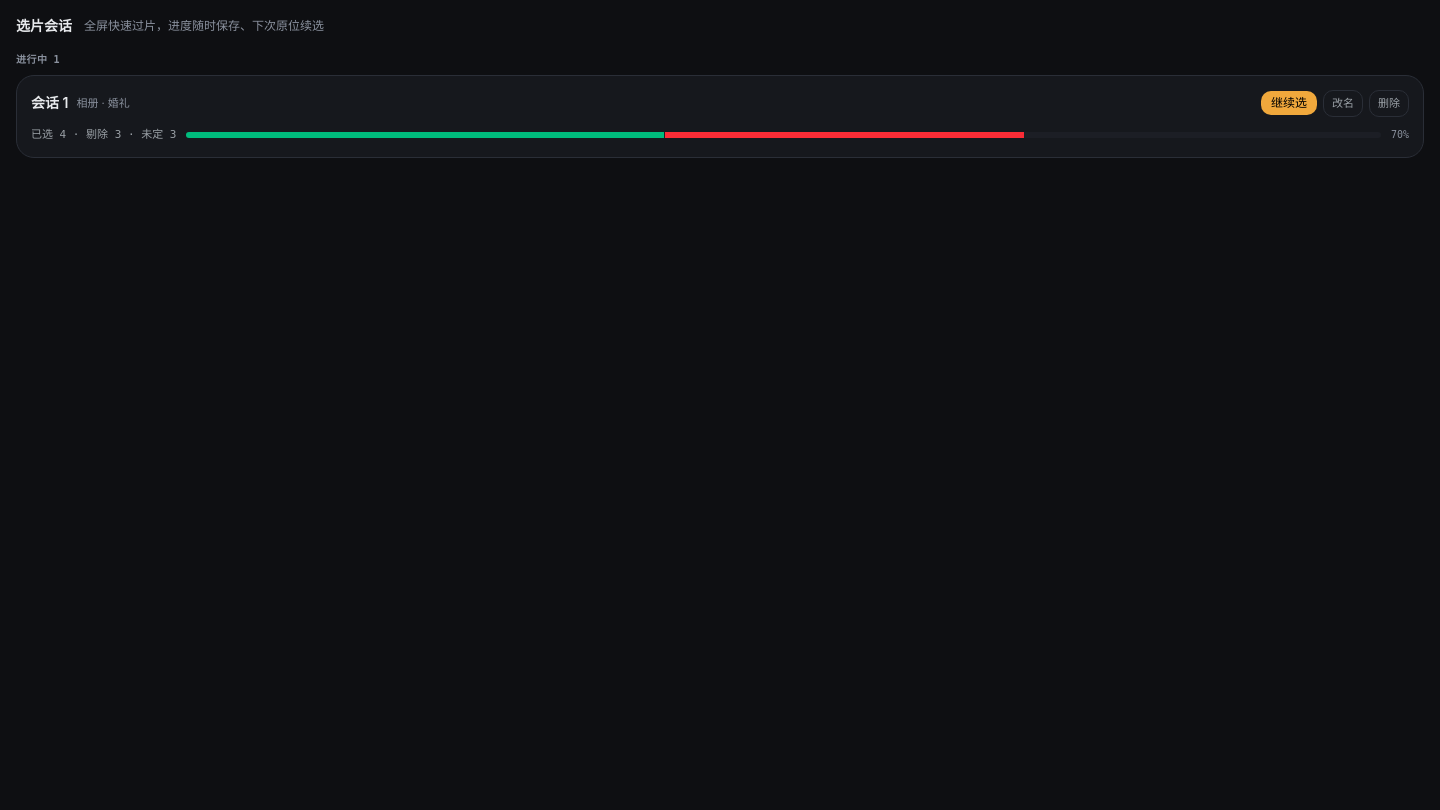
选片会话页（CullingPage /culling） › 继续选 → 挂载全屏选片层；Esc 关闭回列表并刷新
This screenshot has width=1440, height=810.
Click the button with test id "culling-session-continue" at {"x": 1289, "y": 103}, box [1261,91,1317,115]
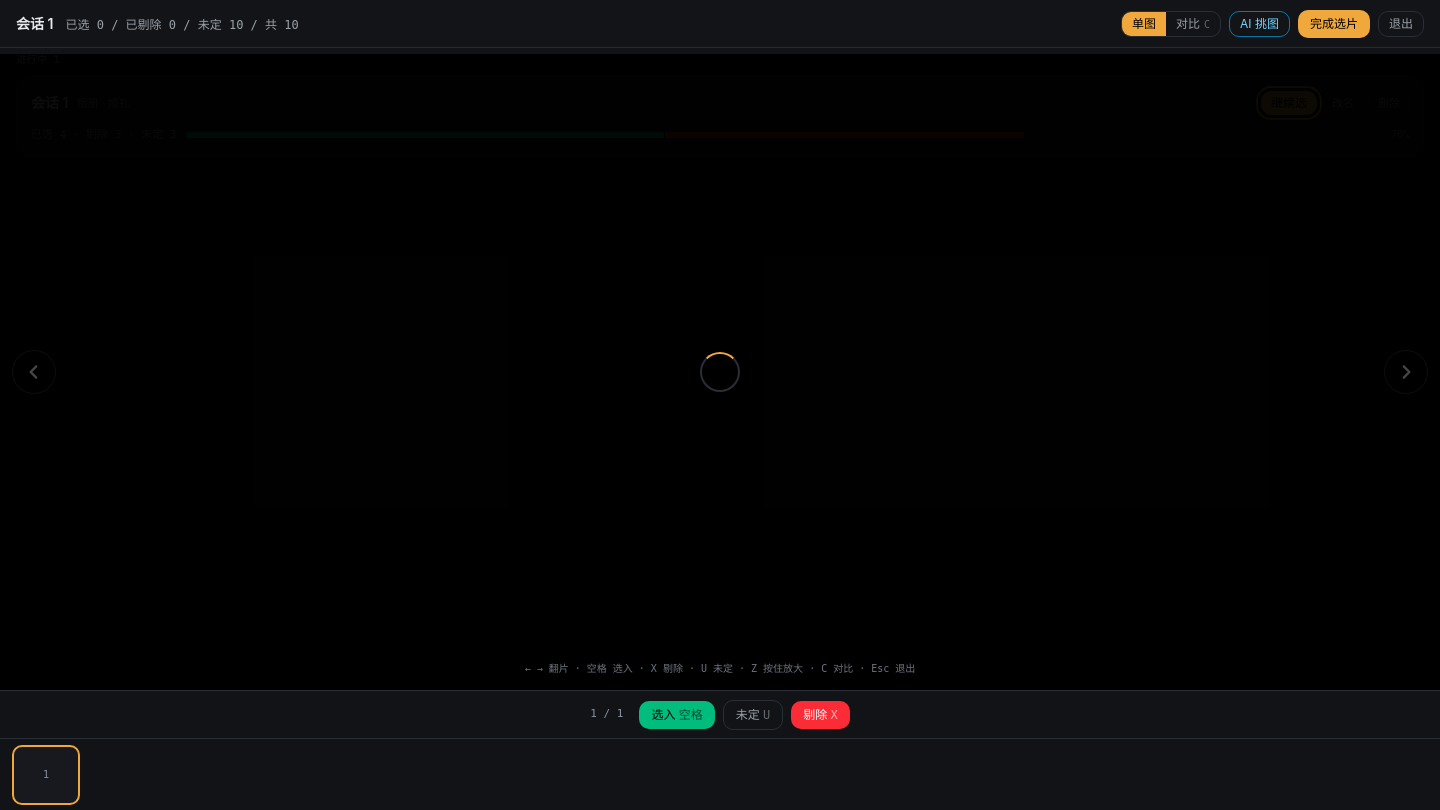
Now the dialog with test id "culling-overlay" is shown
Press Escape
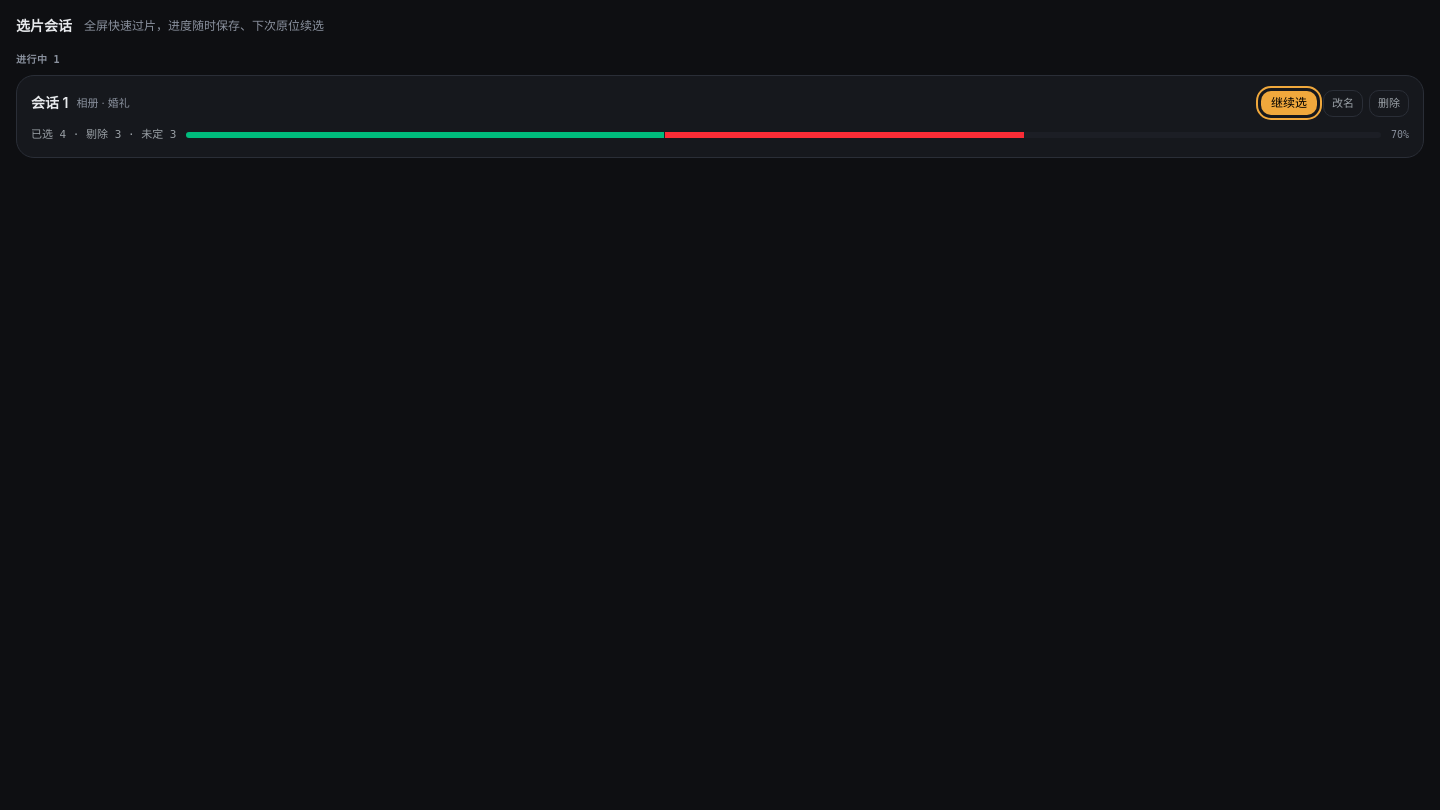
Now the dialog with test id "culling-overlay" is gone
